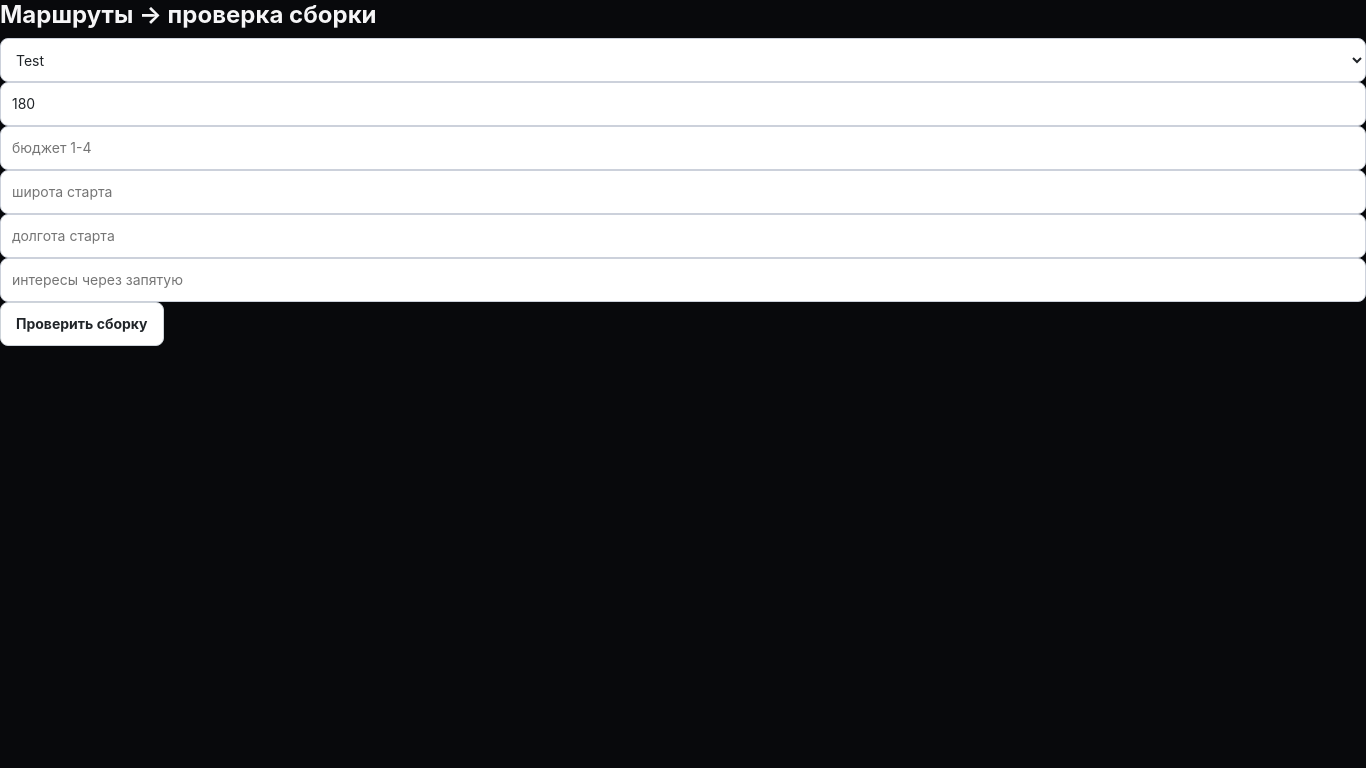
Scenario: AdminRouteDryRunPage › clears stale dry-run result when city changes_new
The width and height of the screenshot is (1366, 768).
Click the button "Проверить сборку": (82, 324) x1=0 y1=302 x2=164 y2=346
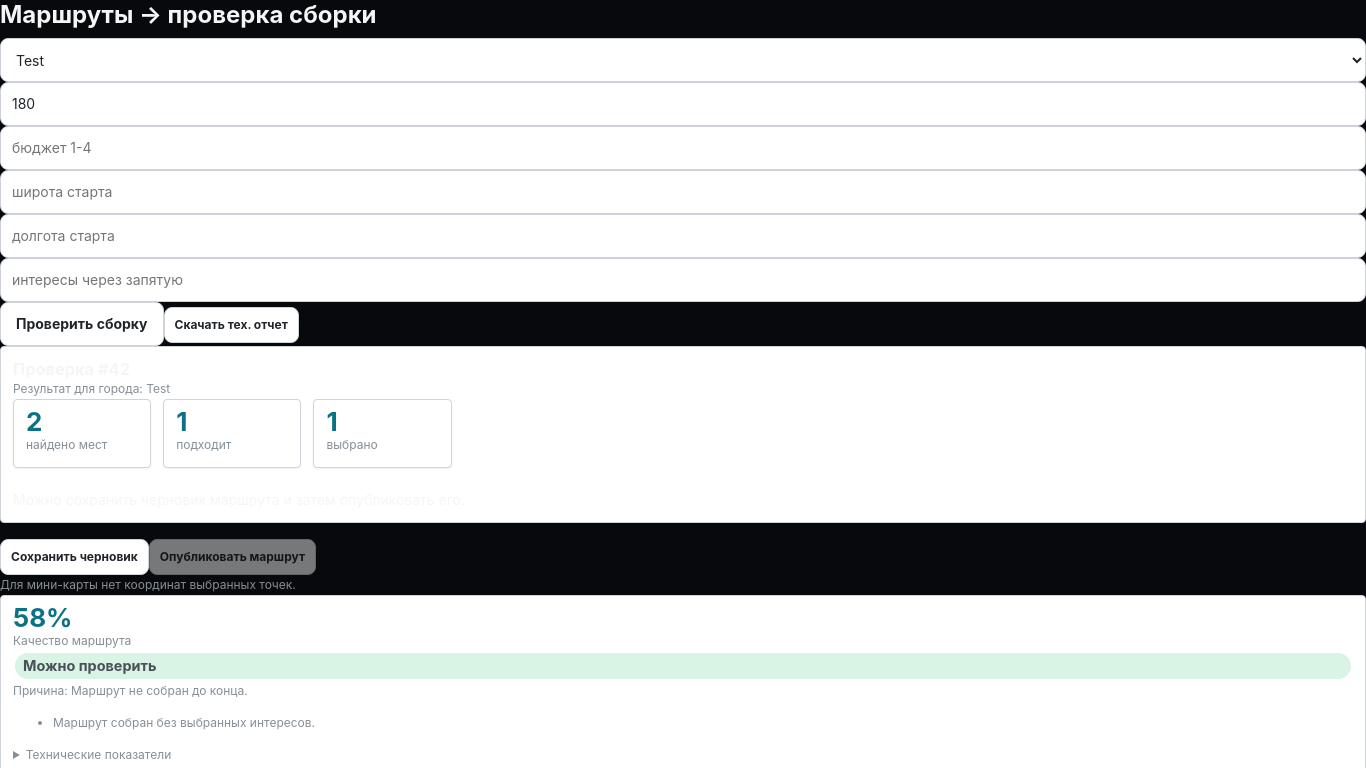
Select "Second" in the dropdown named "Город dry-run": (683, 60) x1=0 y1=38 x2=1365 y2=82
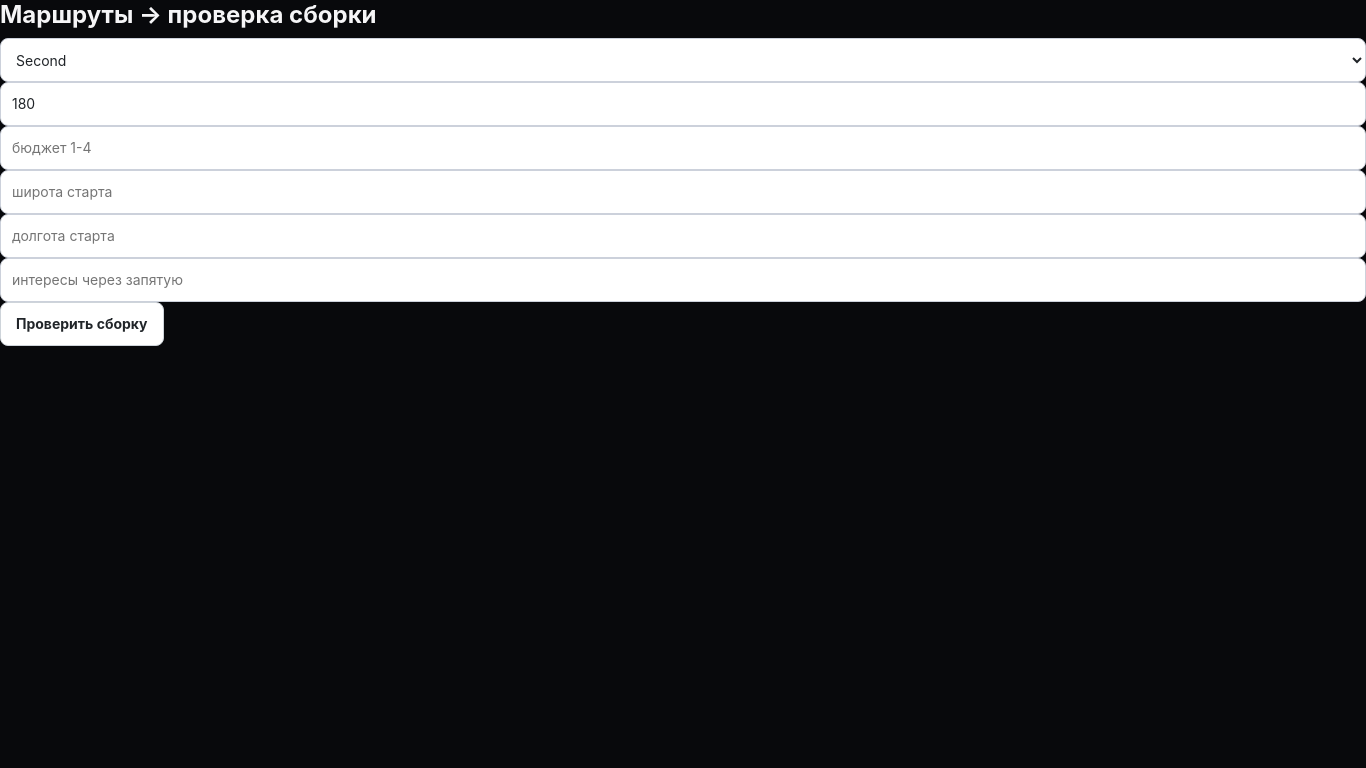
Expected: the heading "Проверка #42" is gone
